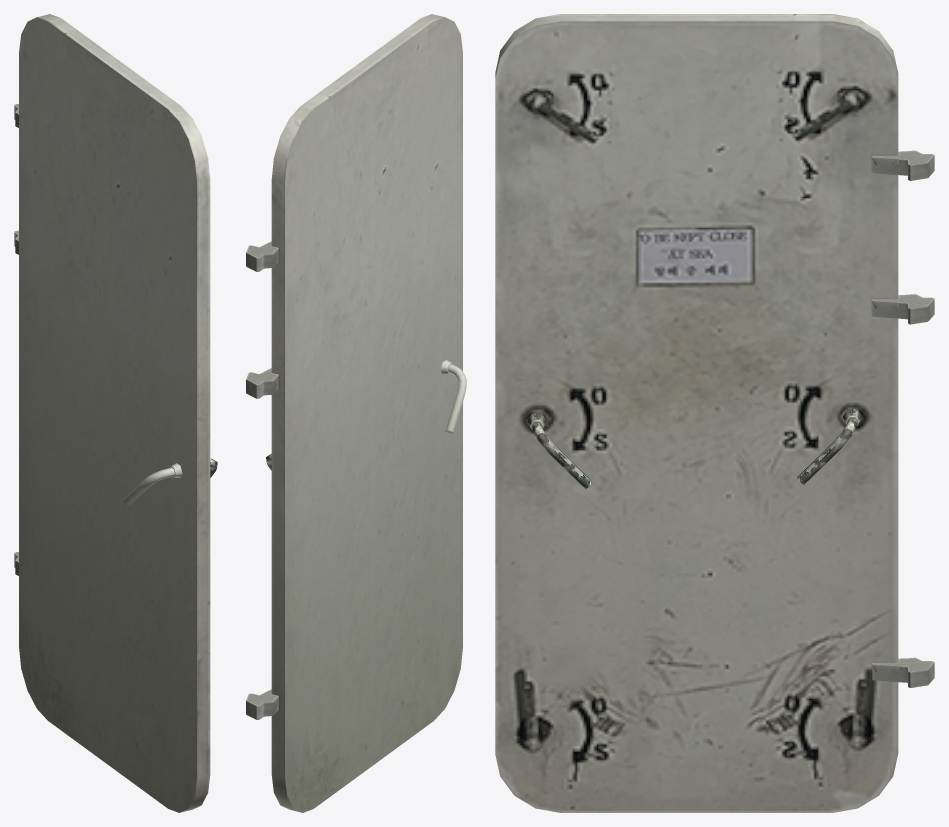
File: ETS_All-001_Door_171212.FBX
3 renders of one model, left to right at view 1: azimuth 30°, elevation 25°; view 2: azimuth 150°, elevation 25°; view 3: azimuth 270°, elevation 25°, orthographic. The views are drawn at different scales.
Visible parts, largest first — view 1: Door_open; view 2: Door_open; view 3: Door_open.
Boxes of the visible parts, x1,y1,x2,y2 form: Door_open: (14, 14, 217, 812); Door_open: (246, 14, 466, 812); Door_open: (495, 14, 934, 812).
Size of the model in its own units: 0.2134 by 1.76 by 0.8878.
